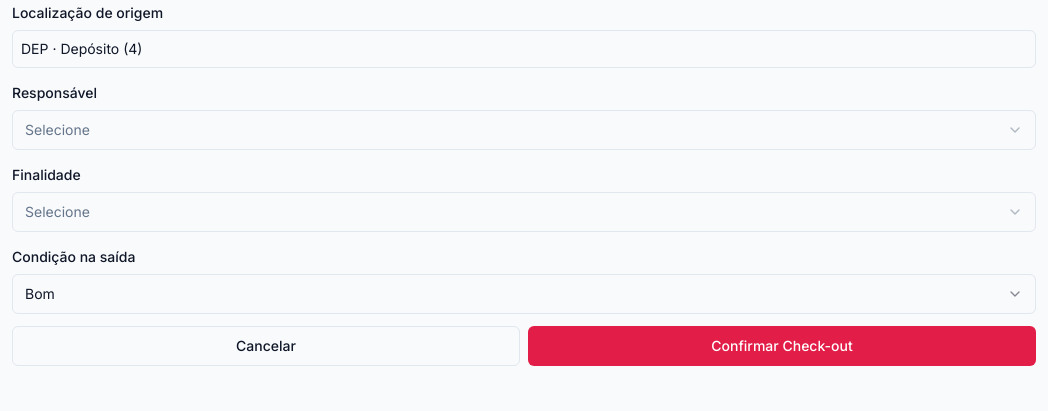
Test: ScannerOperationForm - CHECK-OUT › 9. responsável continua obrigatório (mesma regra do CheckoutDialog)
Click the button "Confirmar Check-out": (782, 346) x1=528 y1=326 x2=1036 y2=366
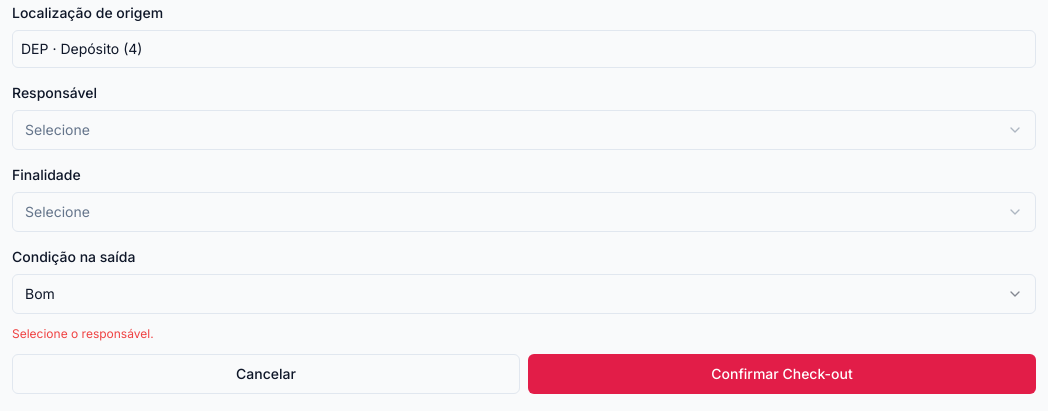
Check: the text "Selecione o responsável." is shown, box x1=12 y1=326 x2=154 y2=341
